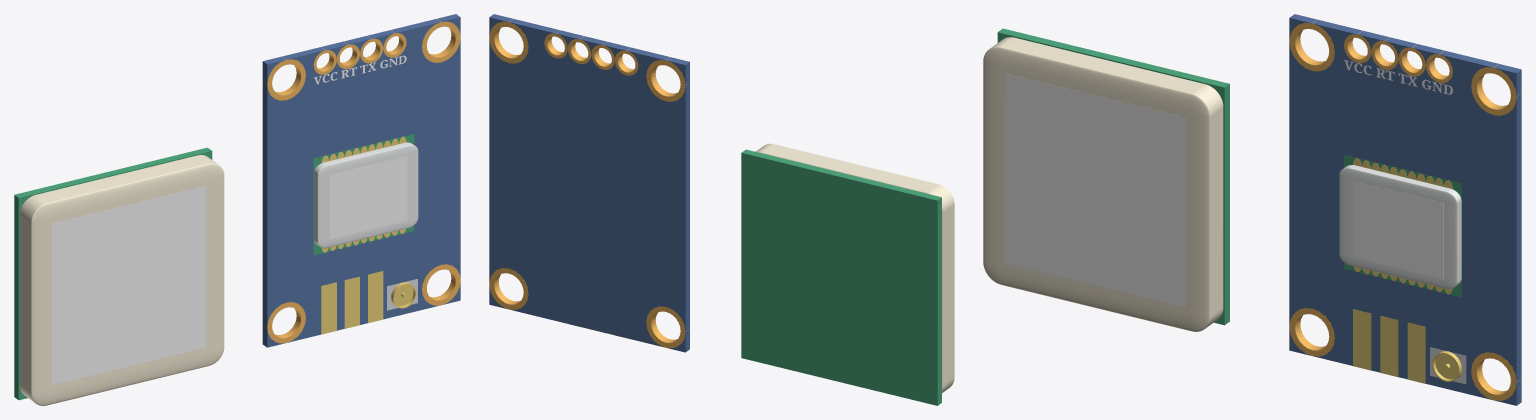
Rendered from gps_module.glb.
3 views of the same model, side by side, from view 1: azimuth 30°, elevation 25°; view 2: azimuth 150°, elevation 25°; view 3: azimuth 330°, elevation 25° (orthographic). The views are drawn at different scales.
Visible parts, largest first — view 1: Object_9, Object_8, Object_7, Object_6, Object_4, Object_5, Object_2; view 2: Object_9, Object_2, Object_7, Object_6; view 3: Object_9, Object_8, Object_7, Object_6, Object_4, Object_5, Object_2.
Part boxes in pixels (bbox=[...]): Object_9: bbox=[262, 14, 460, 347]; Object_8: bbox=[51, 55, 407, 384]; Object_7: bbox=[20, 155, 224, 405]; Object_6: bbox=[263, 19, 460, 343]; Object_4: bbox=[314, 142, 418, 248]; Object_5: bbox=[321, 136, 416, 334]; Object_2: bbox=[14, 134, 414, 400]; Object_9: bbox=[489, 14, 689, 352]; Object_2: bbox=[741, 149, 941, 405]; Object_7: bbox=[756, 143, 954, 392]; Object_6: bbox=[489, 19, 689, 348]; Object_9: bbox=[1289, 14, 1521, 405]; Object_8: bbox=[1004, 60, 1452, 307]; Object_7: bbox=[983, 37, 1223, 331]; Object_6: bbox=[1289, 20, 1521, 400]; Object_4: bbox=[1339, 165, 1461, 288]; Object_5: bbox=[1353, 158, 1461, 383]; Object_2: bbox=[997, 28, 1461, 325].
Size of the model in its own units: 57.13 by 35.01 by 4.01.
